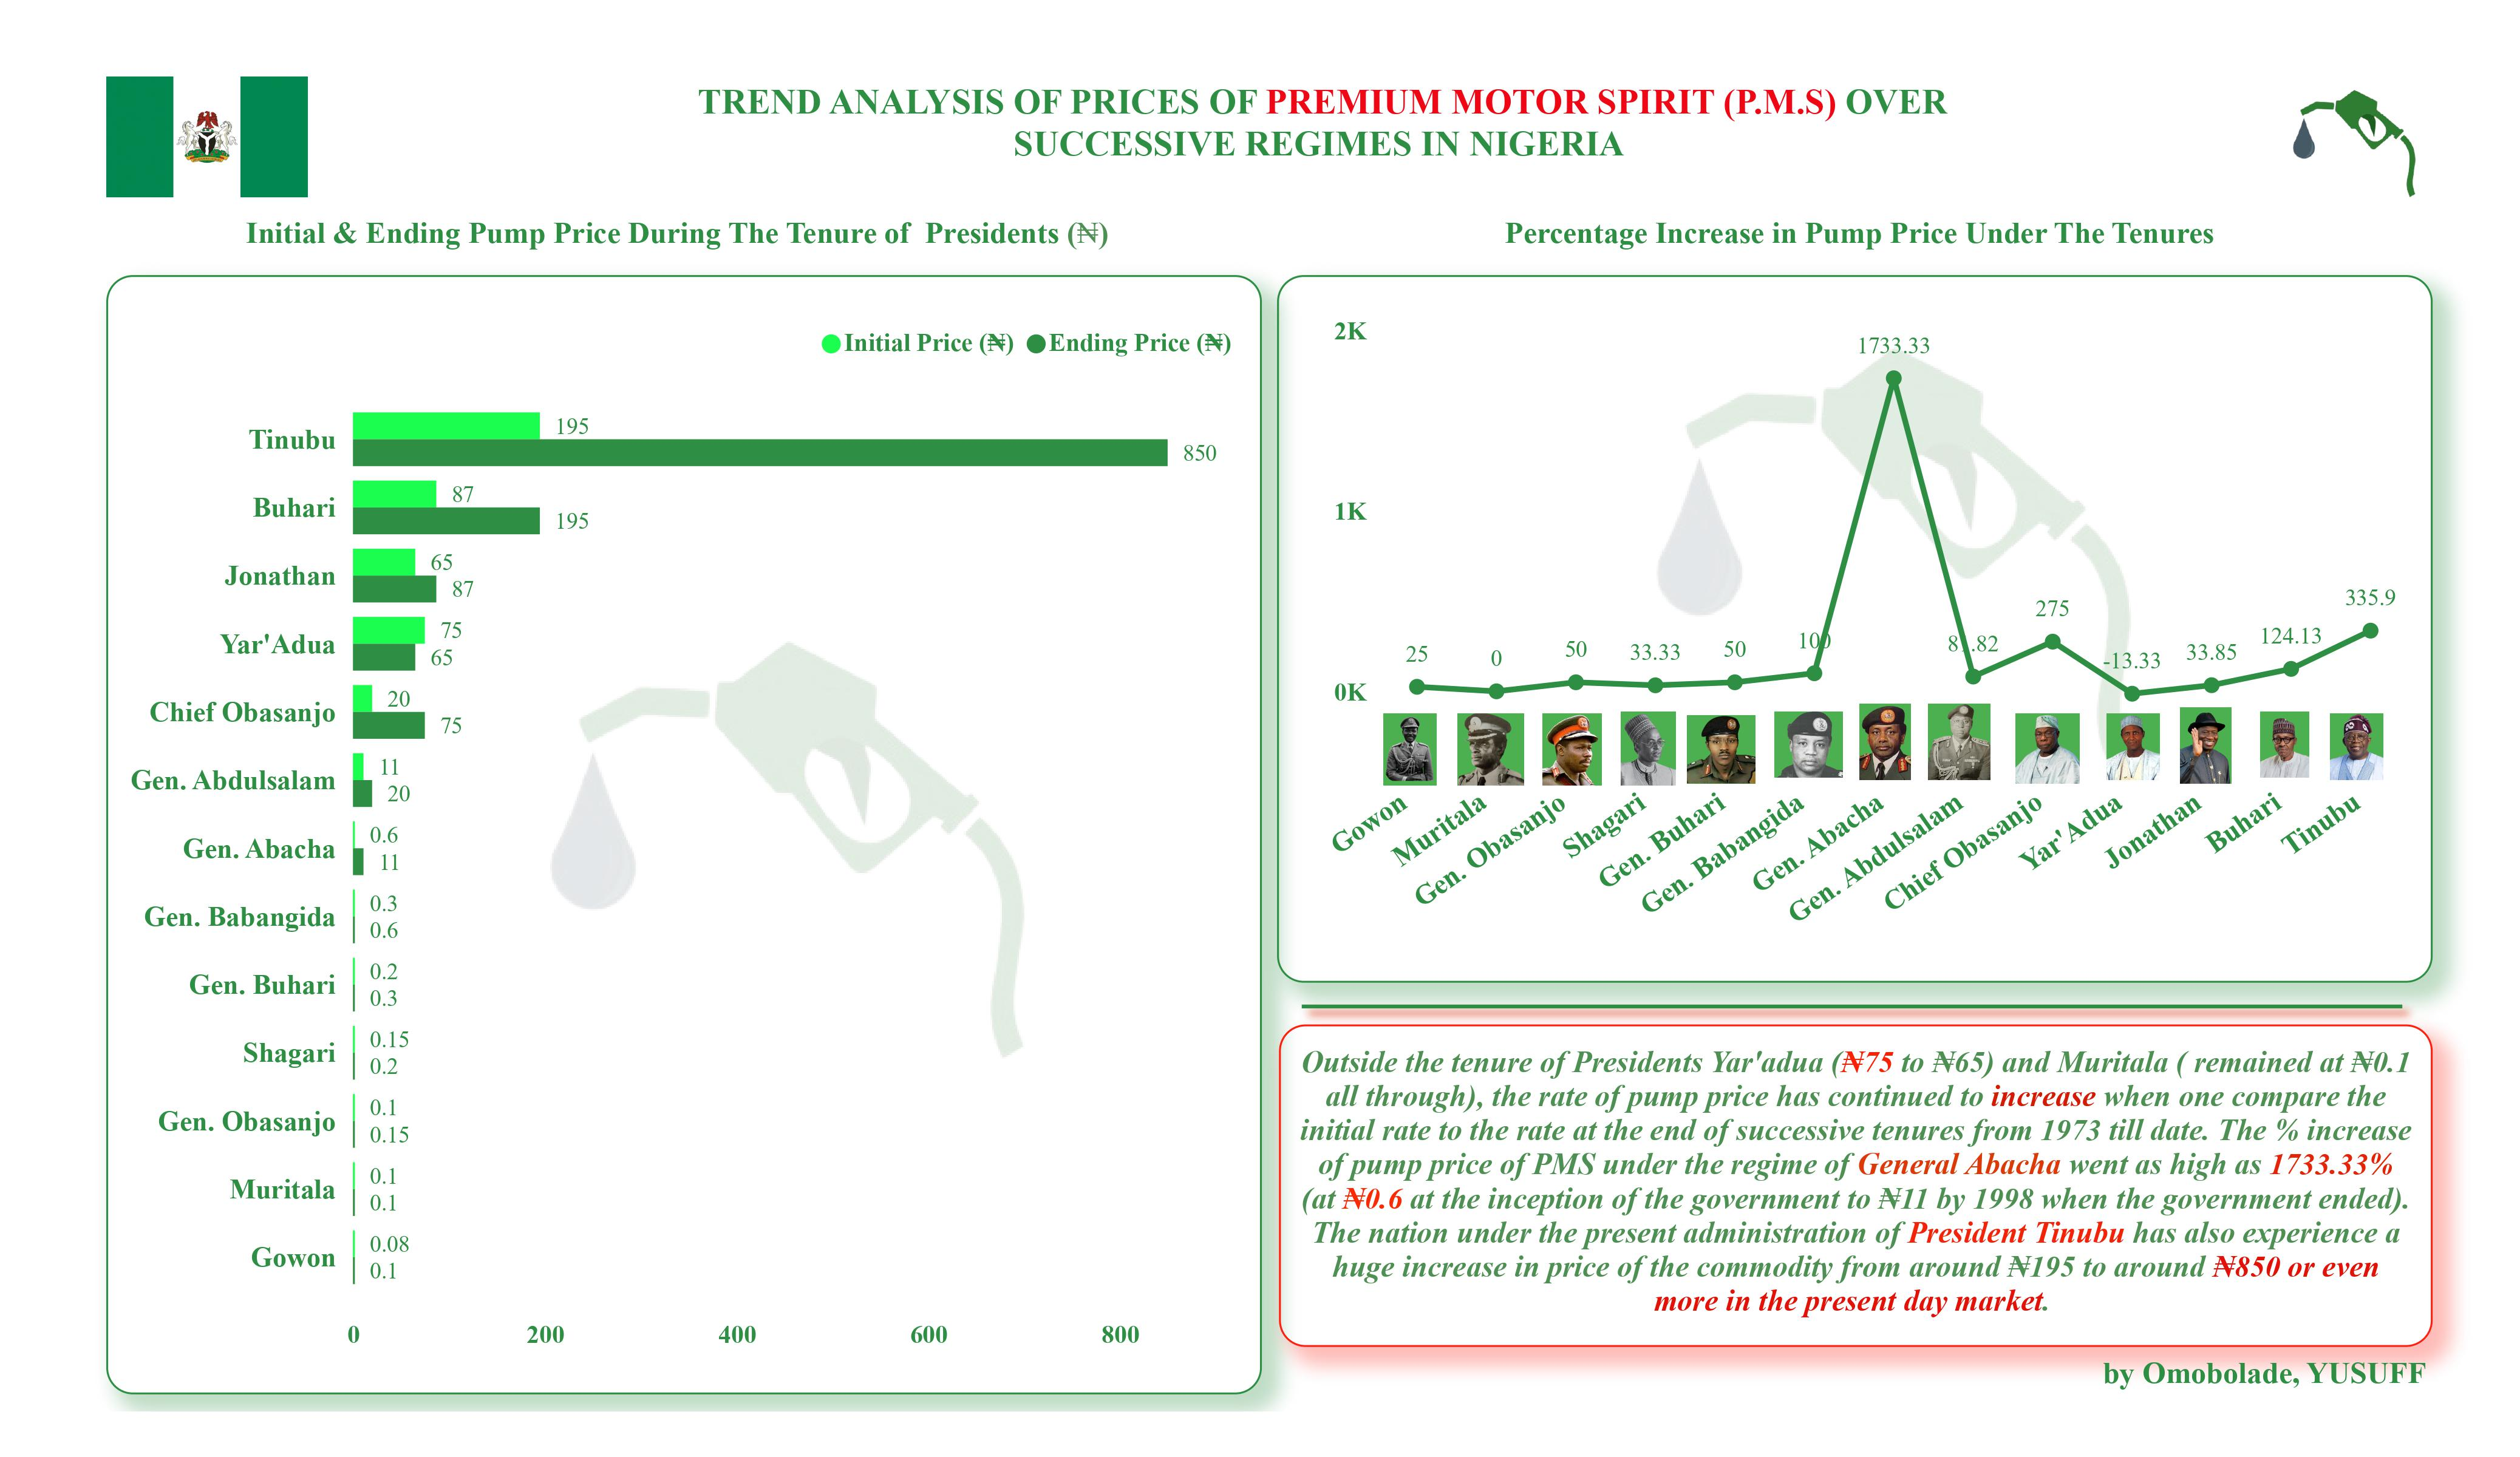

The dashboard page shown, as its layout file describes it:
{"tool":"powerbi","page":{"name":"Page 1","canvas":[1280,720],"ordinal":0},"visuals":[{"type":"textbox","box":[31.6,120.8,609.3,590.1],"z":0},{"type":"clusteredBarChart","fields":{"Category":["President & Increase.President"],"Y":["Sum(President & Increase.Initial Price (₦))","Sum(President & Increase.End Price (₦))"]},"box":[37,137.2,598.3,559.9],"z":1000},{"type":"textbox","box":[649.1,120.8,609.3,373.2],"z":2000},{"type":"lineChart","fields":{"Y":["Sum(President & Increase.Different %)"],"Category":["President & Increase.President"]},"box":[660,135.8,587.3,347.2],"z":3000},{"type":"textbox","box":[57.6,85.1,550.3,35.7],"z":4000},{"type":"textbox","box":[680.6,85.1,550.3,35.7],"z":5000},{"type":"textbox","box":[650.4,516,607.9,170.2],"z":6000},{"type":"image","box":[1153.3,0,126.7,102.7],"z":7000},{"type":"textbox","box":[290.9,13.7,764.3,54.9],"z":8000},{"type":"image","box":[13.7,11,142.7,74.1],"z":9000},{"type":"image","box":[695.7,347.2,46.7,48],"z":10000},{"type":"image","box":[730,347.2,61.7,48],"z":11000},{"type":"image","box":[775.3,347.2,57.6,48],"z":12000},{"type":"image","box":[819.2,345.8,50.8,49.4],"z":13000},{"type":"image","box":[860.4,344.4,45.3,52.1],"z":14000},{"type":"image","box":[905.7,341.7,46.7,53.5],"z":15000},{"type":"image","box":[940,341.7,57.6,50.8],"z":16000},{"type":"image","box":[1030.5,347.2,48,46.7],"z":17000},{"type":"image","box":[1078.6,347.2,41.2,45.3],"z":18000},{"type":"image","box":[1108.8,344.4,59,49.4],"z":19000},{"type":"image","box":[1158.2,345.8,42.5,45.3],"z":20000},{"type":"image","box":[1196.6,347.2,41.2,45.3],"z":21000},{"type":"image","box":[983.9,341.7,48,50.8],"z":22000},{"type":"shape","box":[653.2,489.9,598.3,32.9],"z":23000},{"type":"textbox","box":[1078.6,686.1,199,34.3],"z":24000}]}

Visuals, with their boxes on the page's 1280x720 design canvas (x1, y1, x2, y2). These are canvas units, not pixel positions in the 2520x1457 screenshot, which may show the page scaled, cropped or inside an application window:
textbox: 32/121/641/711
clusteredBarChart - President & Increase.President x Sum(President & Increase.Initial Price (₦)): 37/137/635/697
textbox: 649/121/1258/494
lineChart - Sum(President & Increase.Different %) x President & Increase.President: 660/136/1247/483
textbox: 58/85/608/121
textbox: 681/85/1231/121
textbox: 650/516/1258/686
image: 1153/0/1280/103
textbox: 291/14/1055/69
image: 14/11/156/85
image: 696/347/742/395
image: 730/347/792/395
image: 775/347/833/395
image: 819/346/870/395
image: 860/344/906/396
image: 906/342/952/395
image: 940/342/998/392
image: 1030/347/1078/394
image: 1079/347/1120/392
image: 1109/344/1168/394
image: 1158/346/1201/391
image: 1197/347/1238/392
image: 984/342/1032/392
shape: 653/490/1252/523
textbox: 1079/686/1278/720
